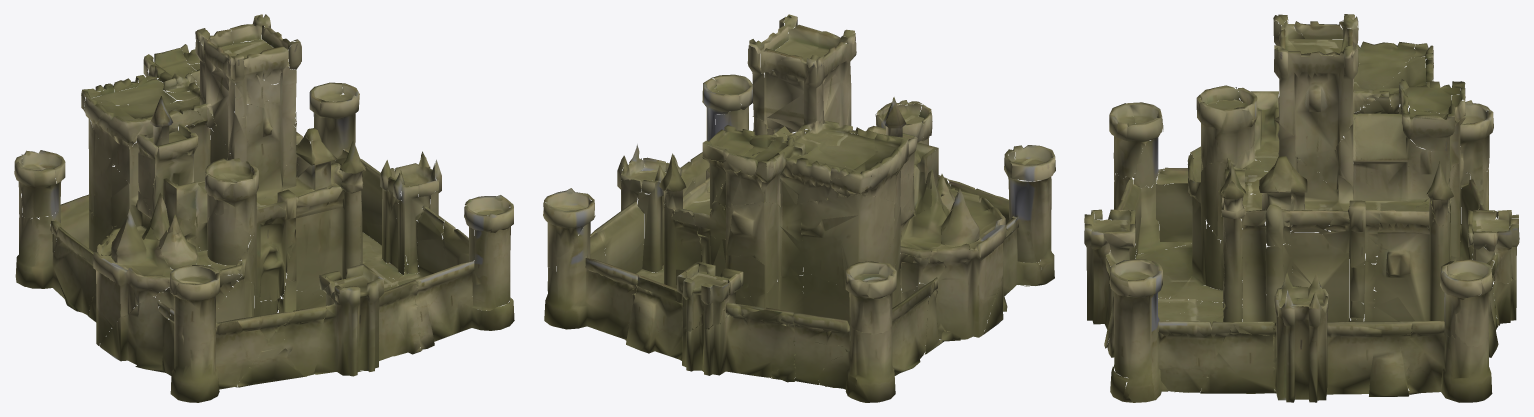
Rendered from lb_castle.glb.
3 renders of one model, left to right at view 1: azimuth 30°, elevation 25°; view 2: azimuth 150°, elevation 25°; view 3: azimuth 270°, elevation 25°, orthographic. The views are drawn at different scales.
Parts seen in each view (by area): view 1: lb_castle; view 2: lb_castle; view 3: lb_castle.
Boxes of the visible parts, x1,y1,x2,y2 form: lb_castle: (14,14,514,402); lb_castle: (543,14,1055,402); lb_castle: (1084,14,1519,402).
Size of the model in its own units: 0.9753 by 0.7135 by 1.
Materials: 1 (1 with a texture image).
